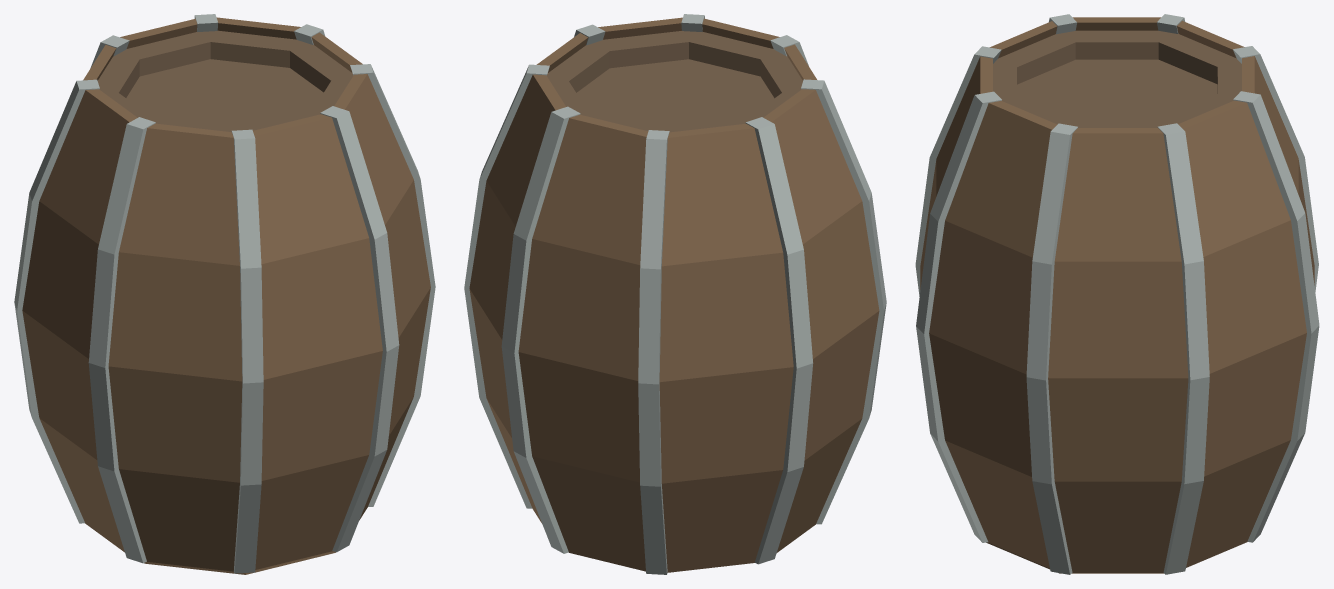
The model's file is Barrel_3.fbx.
The picture shows the model from 3 angles, left to right: view 1: azimuth 30°, elevation 25°; view 2: azimuth 150°, elevation 25°; view 3: azimuth 270°, elevation 25°; orthographic projection.
Visible parts, largest first — view 1: Barrel_3; view 2: Barrel_3; view 3: Barrel_3.
Boxes of the visible parts, bbox=[...] form: Barrel_3: bbox=[14, 14, 435, 574]; Barrel_3: bbox=[464, 14, 886, 574]; Barrel_3: bbox=[915, 14, 1319, 574].
Bounding box in the file's own units: 52.17 × 63.44 × 52.17.
Materials: 1 (1 with a texture image).
